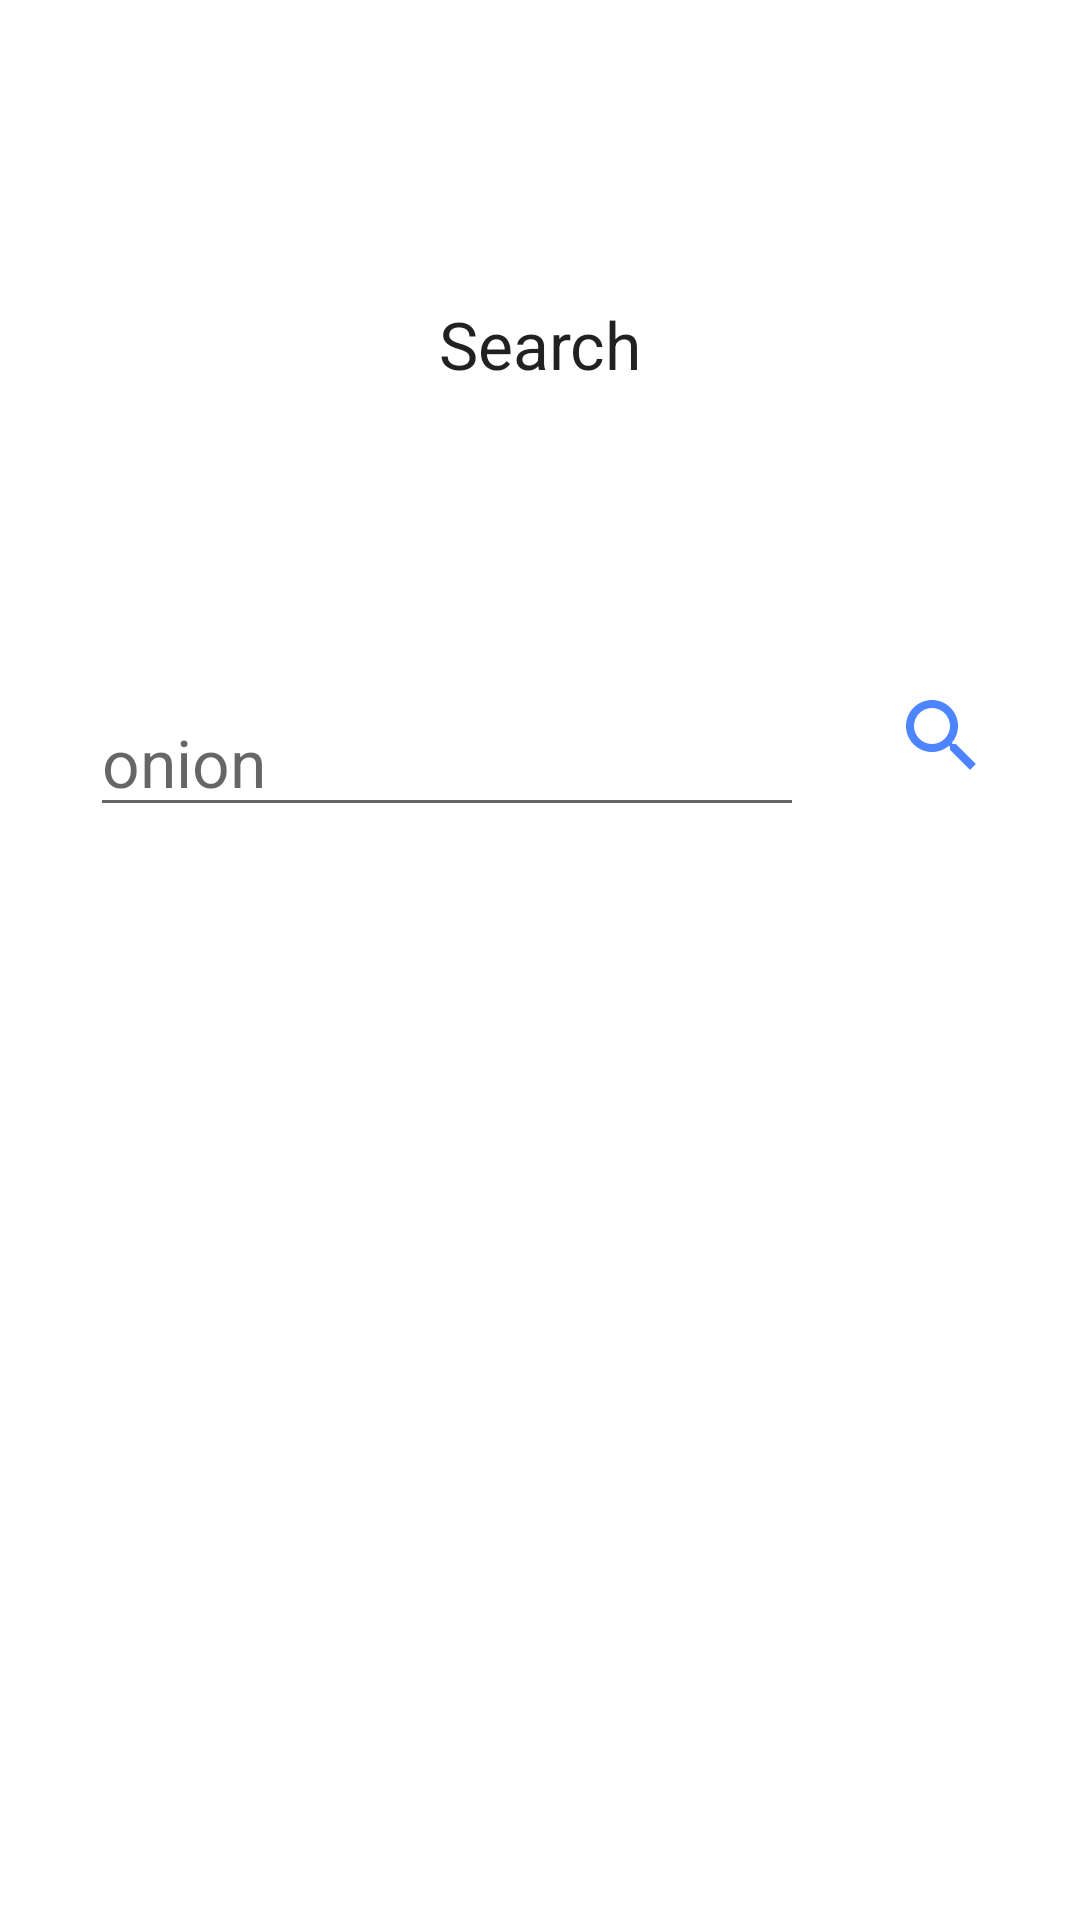

Screen size 1080 x 1920. Icon name, then its box in pixels as (x1, y1, x2, y2):
Search: (906, 700, 976, 770)
